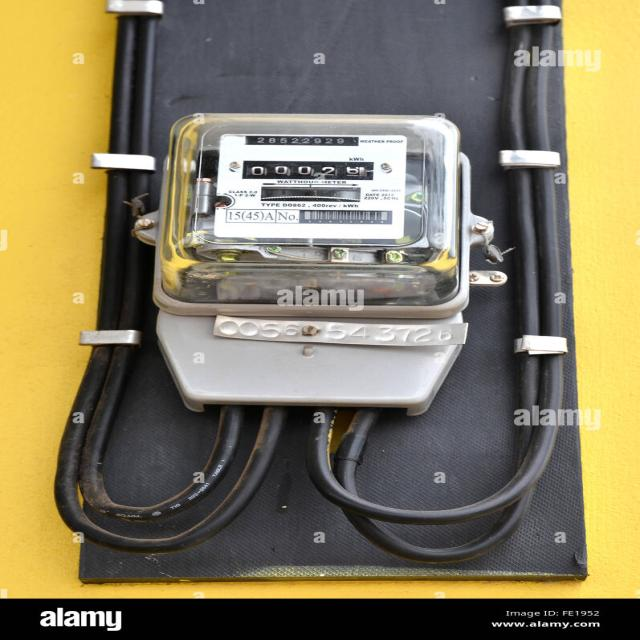0: (268, 165, 294, 178), (293, 164, 316, 178), (248, 164, 268, 178)
2: (316, 164, 341, 178)
6: (342, 164, 368, 178)
analog meter: (244, 160, 375, 181)
